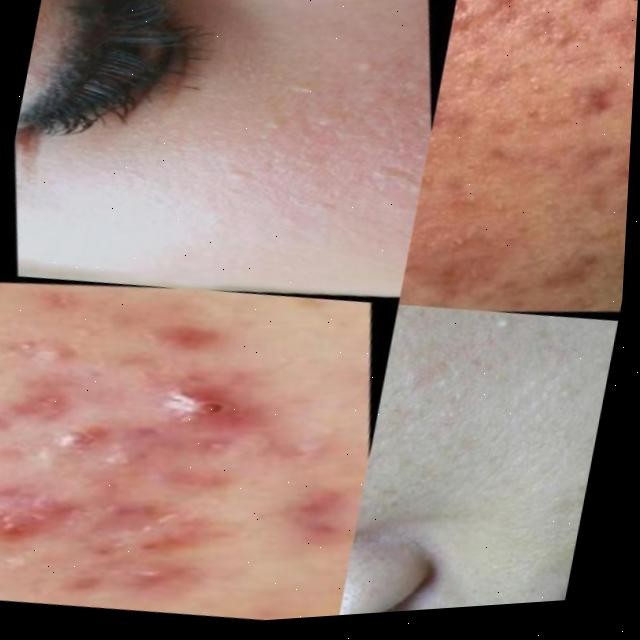Acne: (0, 337, 259, 602), (344, 287, 517, 561), (469, 0, 639, 274), (249, 30, 393, 173)
